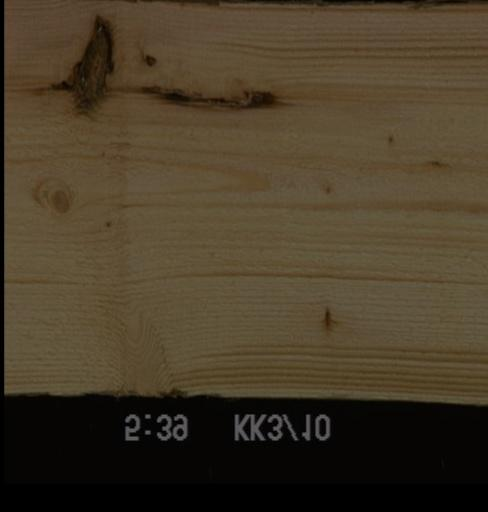small_knot: (320, 302, 331, 329), (384, 132, 395, 144), (323, 185, 332, 193)
sound_knot: (48, 188, 69, 215)
wave: (4, 386, 222, 398)
